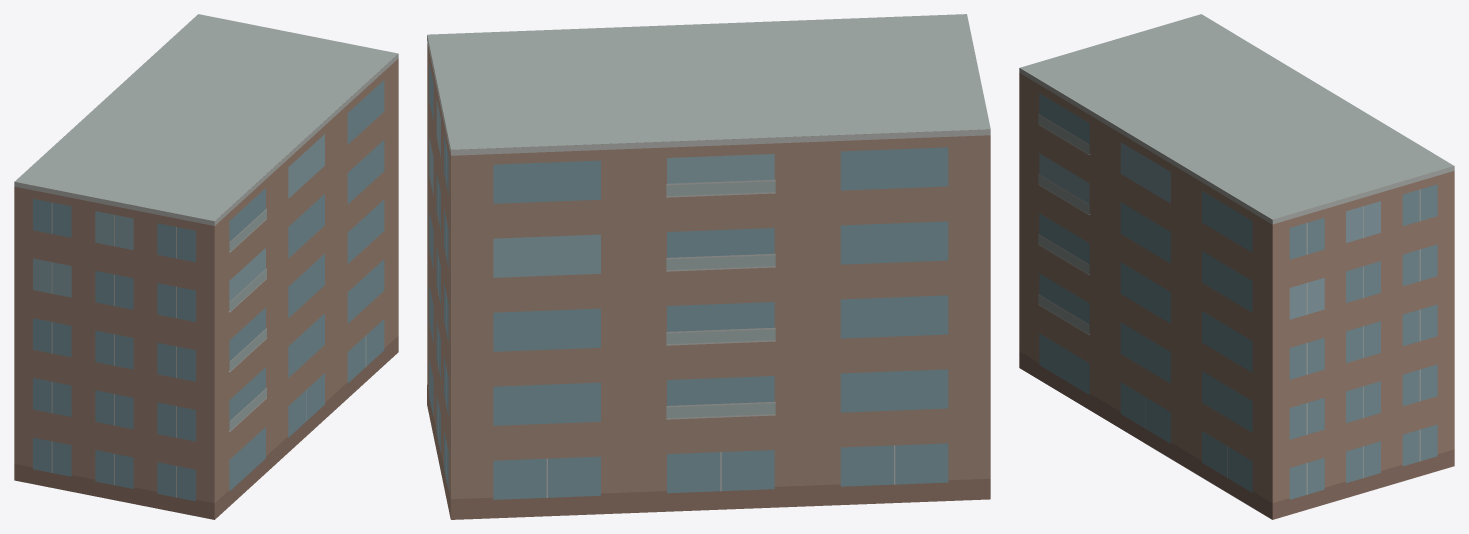
File: survey-upis-32678063.glb
The picture shows the model from 3 angles, left to right: view 1: azimuth 30°, elevation 25°; view 2: azimuth 150°, elevation 25°; view 3: azimuth 270°, elevation 25°; orthographic projection. The views are drawn at different scales.
Visible parts, largest first — view 1: survey-upis-32678063.tmp; view 2: survey-upis-32678063.tmp; view 3: survey-upis-32678063.tmp.
Boxes of the visible parts, box(x1,y1,x2,y2) form: survey-upis-32678063.tmp: box(14, 14, 398, 519); survey-upis-32678063.tmp: box(427, 14, 990, 519); survey-upis-32678063.tmp: box(1019, 14, 1454, 519).
Bounding box in the file's own units: 22.35 × 15.2 × 19.98.
